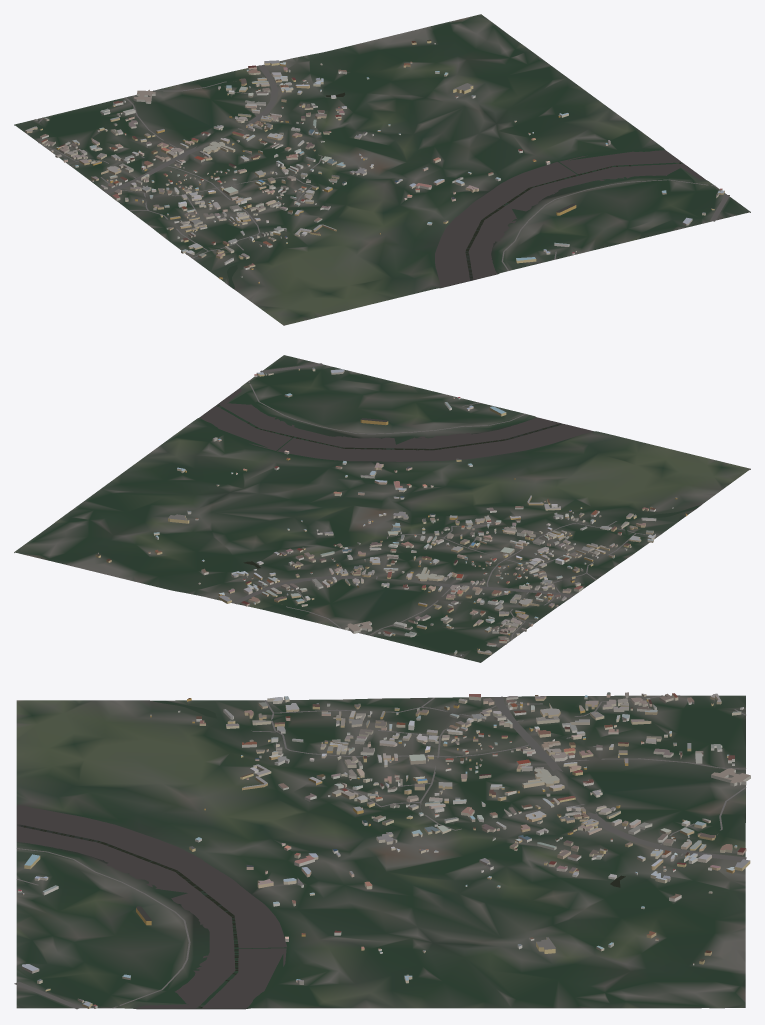
The picture shows the model from 3 angles, top to bottom: view 1: azimuth 30°, elevation 25°; view 2: azimuth 150°, elevation 25°; view 3: azimuth 270°, elevation 25°; orthographic projection. The views are drawn at different scales.
Visible parts, largest first — view 1: ground, buildings, water, roads; view 2: ground, buildings, water, roads; view 3: ground, buildings, water, roads.
Part boxes in pixels (x1=…): ground: x1=14, y1=14, x2=750, y2=325; buildings: x1=25, y1=39, x2=724, y2=283; water: x1=227, y1=92, x2=705, y2=288; roads: x1=38, y1=65, x2=729, y2=270; ground: x1=14, y1=355, x2=750, y2=662; buildings: x1=95, y1=367, x2=687, y2=656; water: x1=199, y1=388, x2=699, y2=568; roads: x1=232, y1=363, x2=658, y2=655; ground: x1=16, y1=695, x2=745, y2=1009; buildings: x1=18, y1=692, x2=750, y2=1008; water: x1=17, y1=700, x2=625, y2=1008; roads: x1=14, y1=695, x2=746, y2=1009.
Bounding box in the file's own units: 1411 × 22.72 × 1415.
